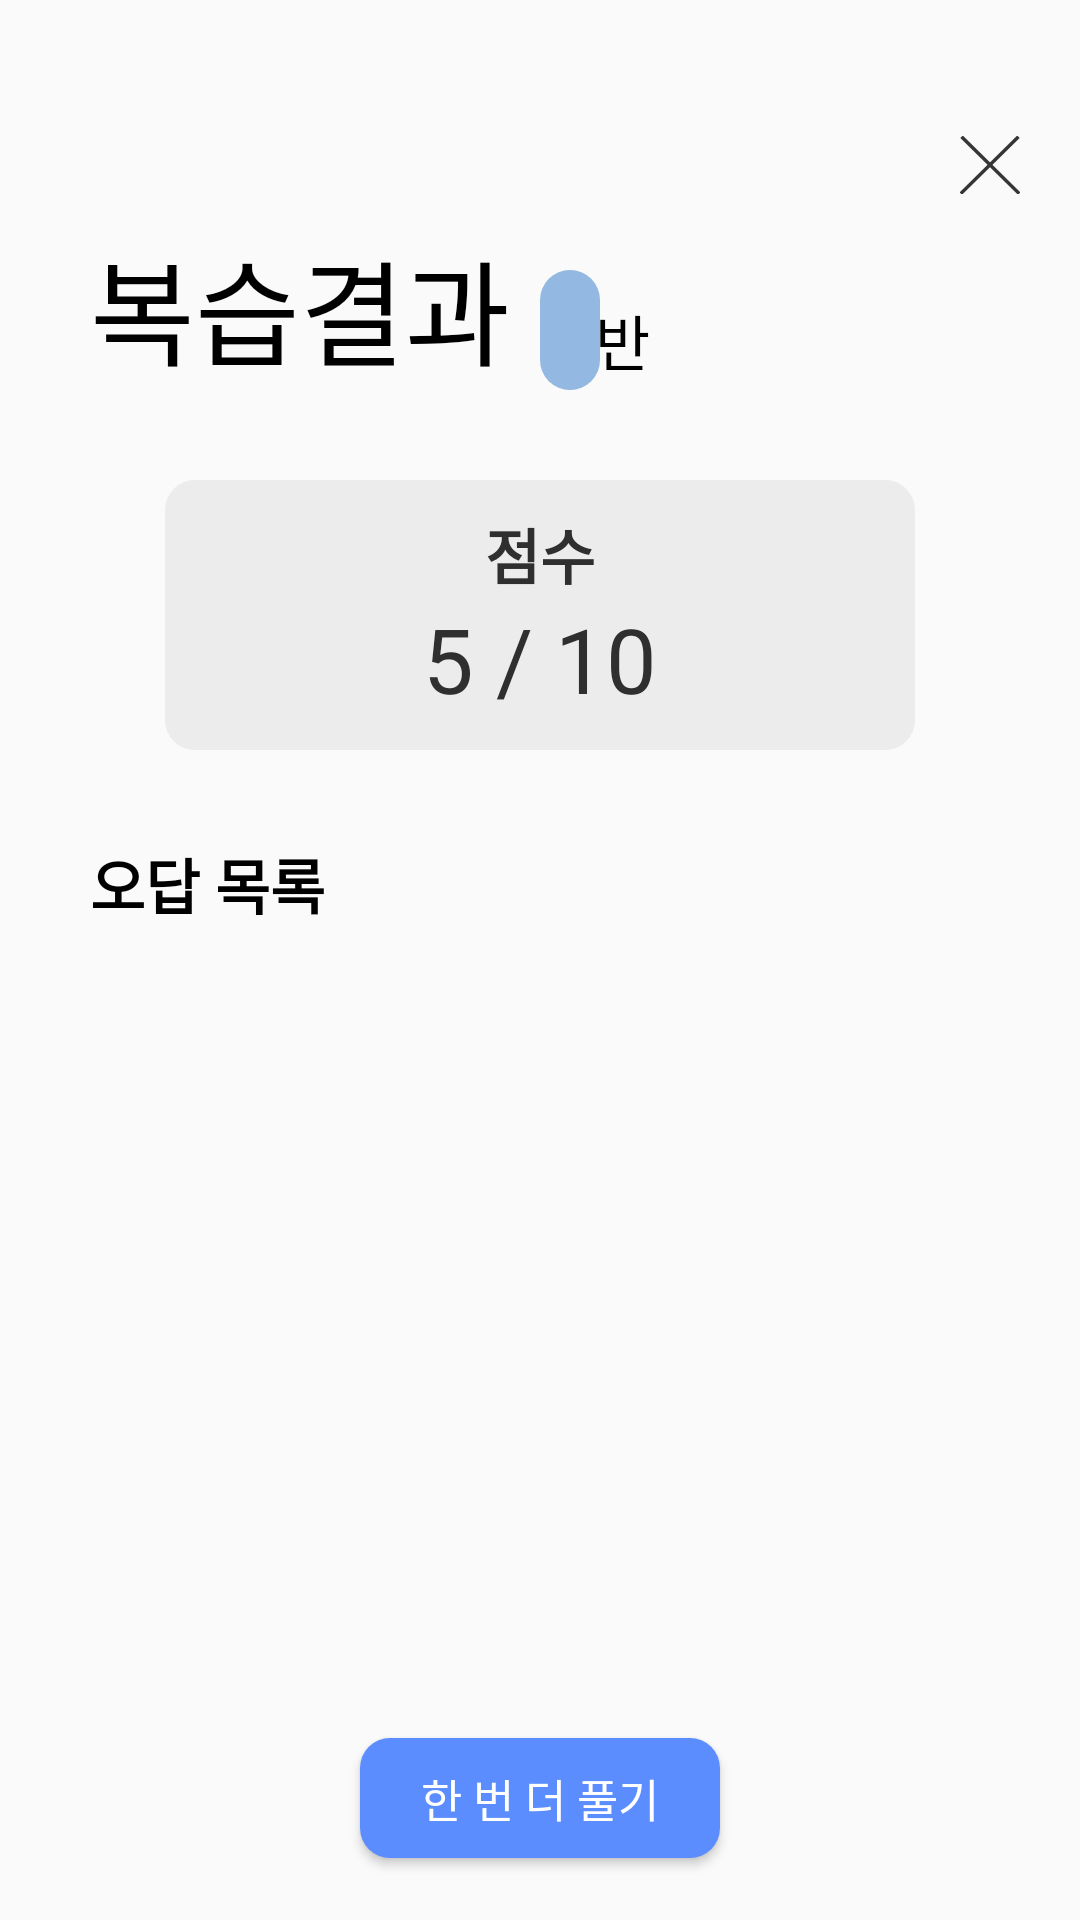

Icons on this 1080x1920 Android screen, each with its box as (x1, y1, x2, y2):
close: (960, 136, 1020, 194)
